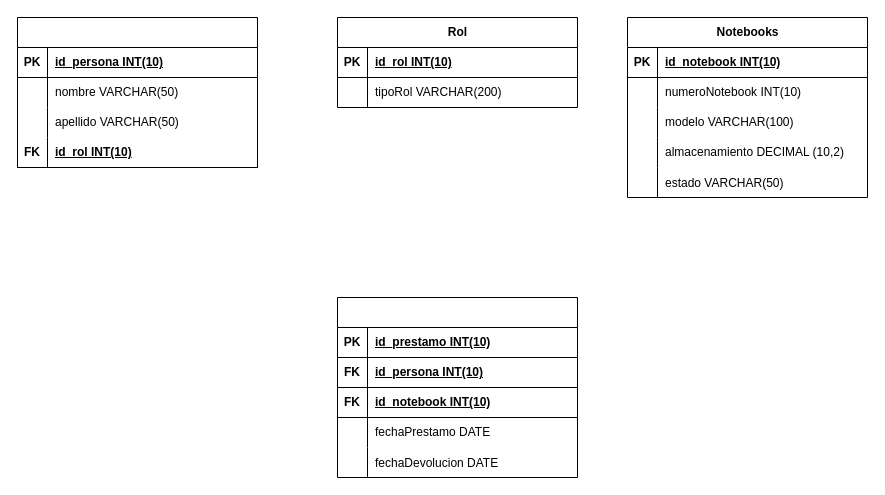
Some shapes in this 885 by 495 pixel diagram are drawn without their labels. Each missing label, with the box of its shape:
Personas: (16, 16, 258, 168)
Prestamos: (336, 296, 578, 478)
